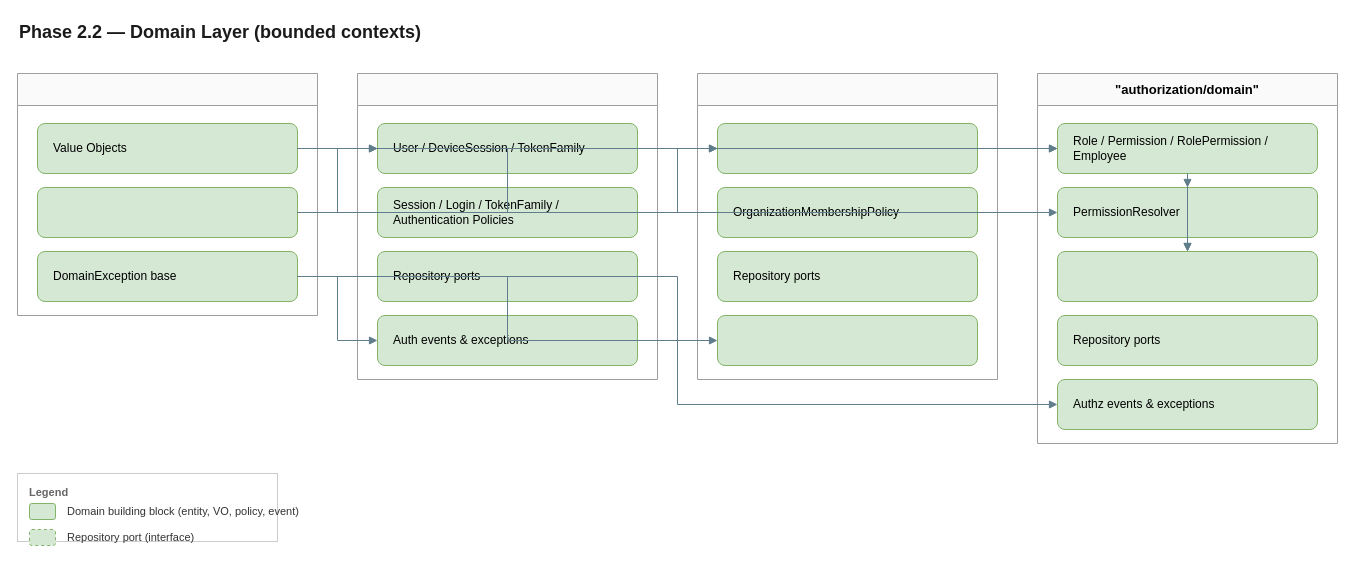
Image size: 1355x564. Some labels were removed from this diagram. Here are the shapes that lost their labels. From the top down, the box of each, then its label:
(716, 122, 978, 174): Organization / OrganizationMember
(16, 72, 318, 316): "shared/domain"
(36, 186, 298, 238): Entity / ValueObject / DomainEvent bases
(356, 72, 658, 380): "authentication/domain"
(696, 72, 998, 380): "organizations/domain"
(1056, 250, 1318, 302): AuthorizationPolicy
(716, 314, 978, 366): Org exceptions
